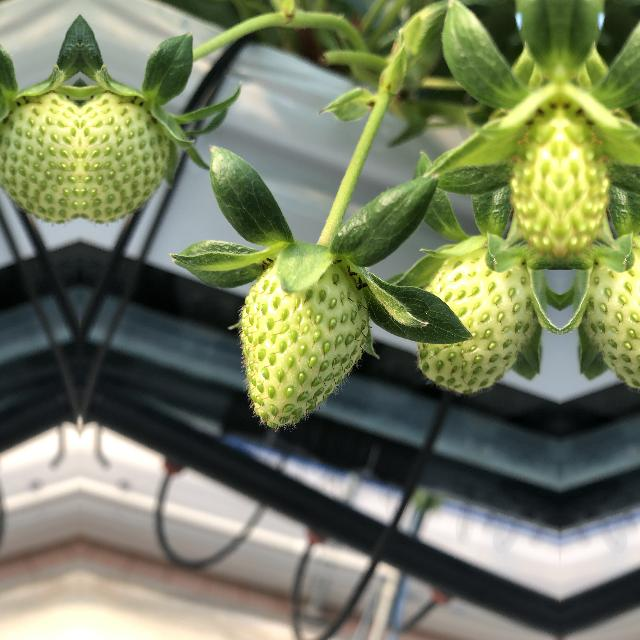Health_25: (228, 240, 378, 436)
